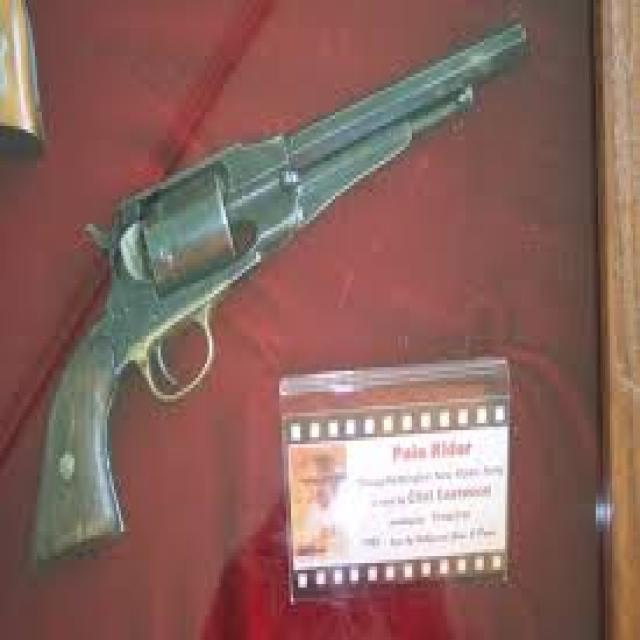gun: (27, 6, 548, 584)
